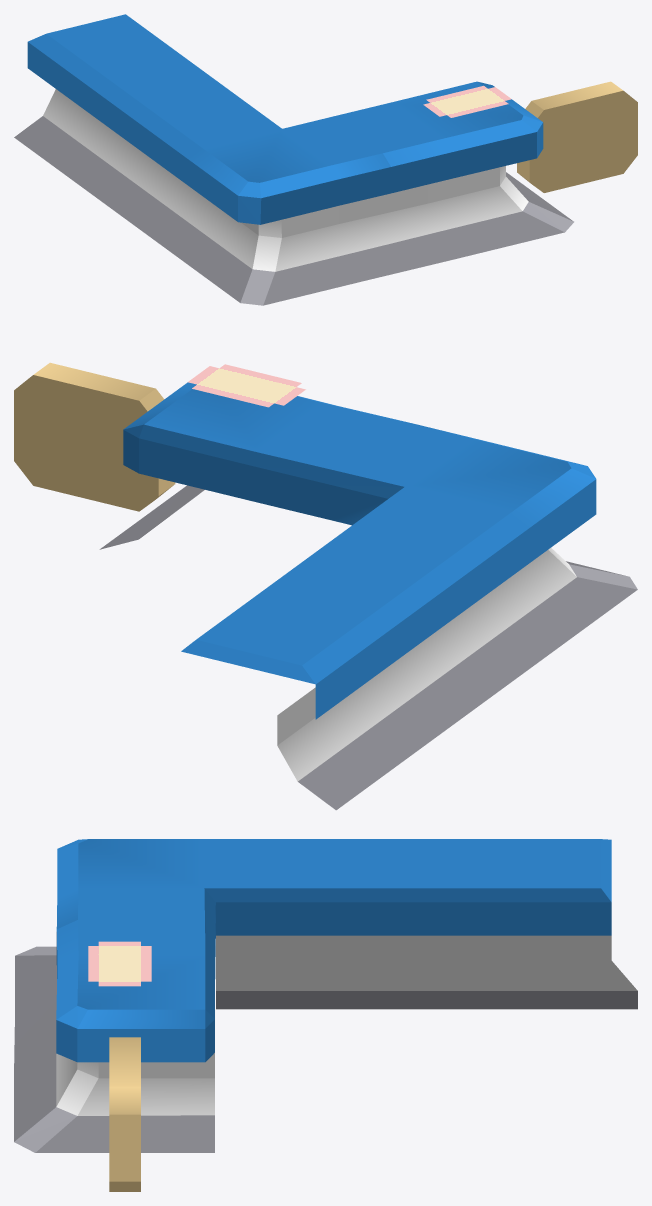
Rendered from hgss-centre-b1-station-0.glb.
3 renders of one model, top to bottom at view 1: azimuth 30°, elevation 25°; view 2: azimuth 150°, elevation 25°; view 3: azimuth 270°, elevation 25°, orthographic. The views are drawn at different scales.
Bounding box in the file's own units: 3.69 × 0.9375 × 3.69.
5 materials, 5 textured.
